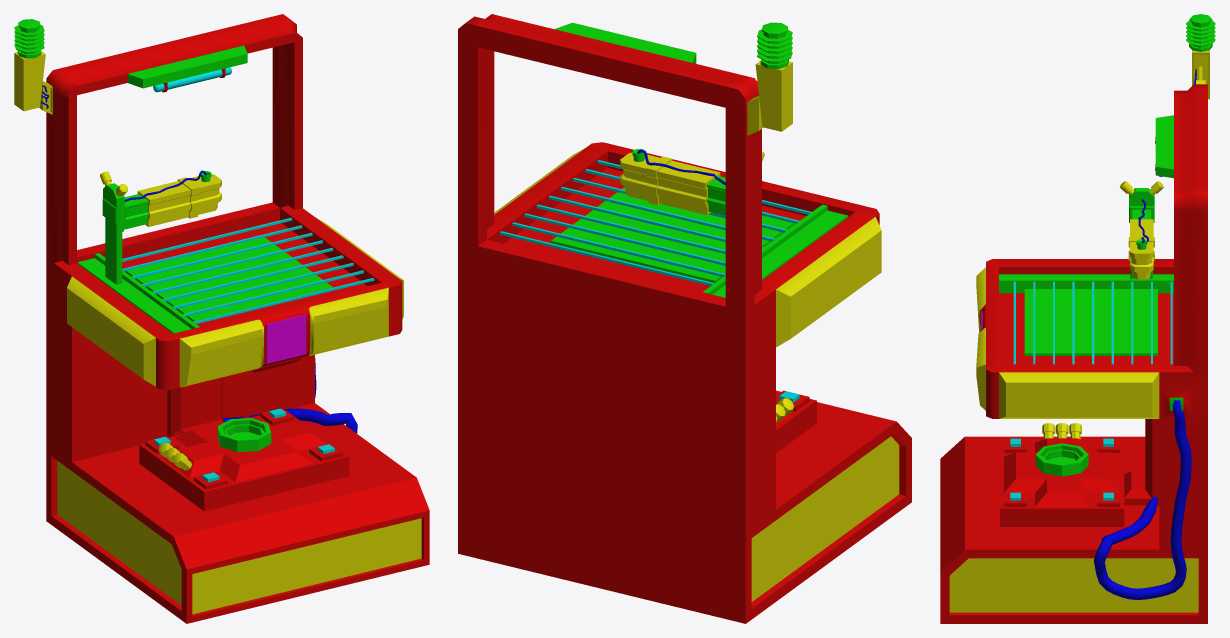
The model's file is Printer.fbx.
3 renders of one model, left to right at view 1: azimuth 30°, elevation 25°; view 2: azimuth 150°, elevation 25°; view 3: azimuth 270°, elevation 25°, orthographic. The views are drawn at different scales.
Visible parts, largest first — view 1: Printer; view 2: Printer; view 3: Printer.
Part boxes in pixels (x1,y1,x2,y2): Printer: (14, 14, 429, 623); Printer: (458, 14, 911, 623); Printer: (940, 14, 1215, 623).
Size of the model in its own units: 119 by 199 by 103.
